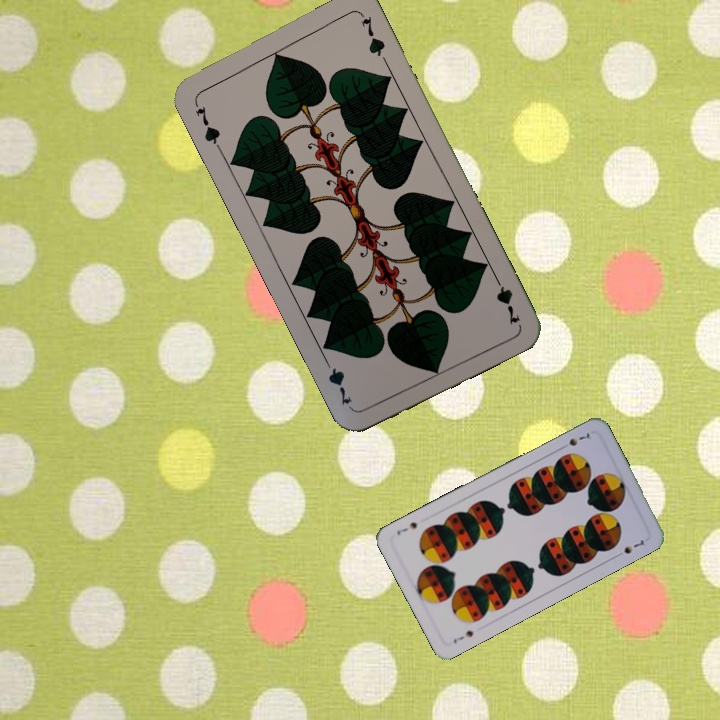G7: (489, 270, 523, 327), (190, 96, 223, 152)
S7: (556, 429, 592, 452), (449, 626, 476, 646)
